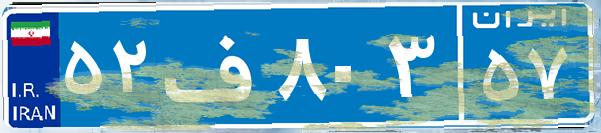0: (330, 28, 385, 110)
2: (110, 28, 158, 105)
3: (385, 28, 445, 110)
5: (57, 26, 110, 107), (475, 38, 525, 113)
7: (525, 38, 570, 115)
8: (273, 28, 330, 110)
ف: (158, 15, 273, 115)
